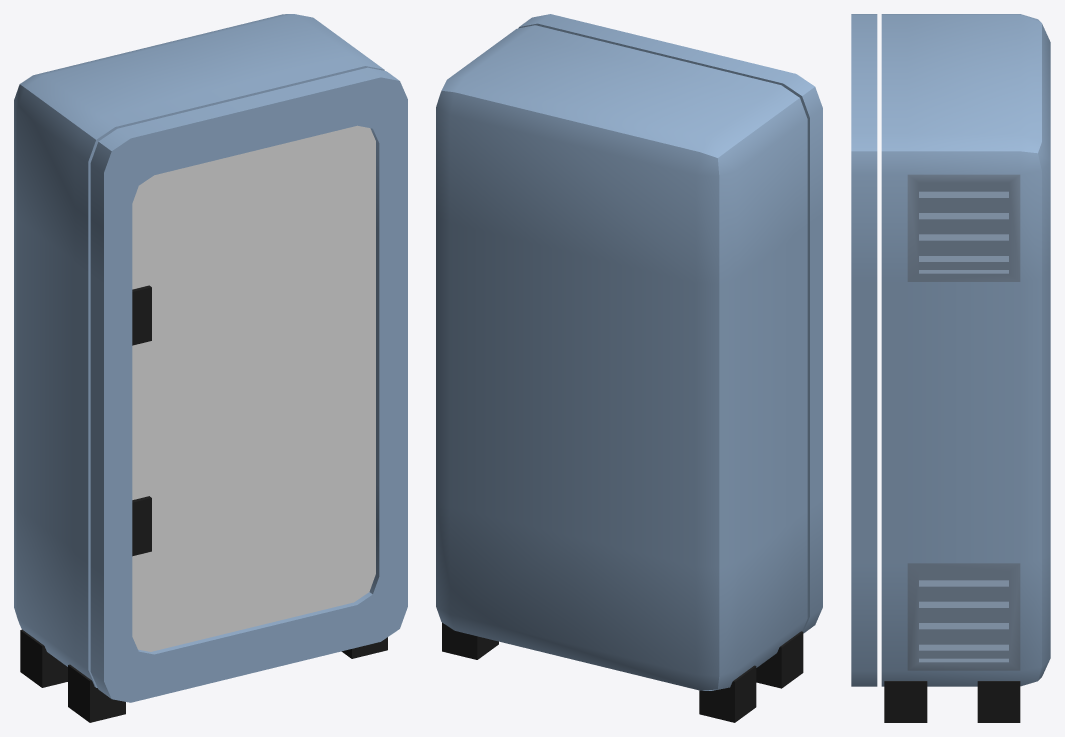
File: Environment_CanFridge.fbx
3 views of the same model, side by side, from view 1: azimuth 30°, elevation 25°; view 2: azimuth 150°, elevation 25°; view 3: azimuth 270°, elevation 25° (orthographic). The views are drawn at different scales.
Parts seen in each view (by area): view 1: Environment_CanFridge_Door, Environment_CanFridge; view 2: Environment_CanFridge, Environment_CanFridge_Door; view 3: Environment_CanFridge, Environment_CanFridge_Door.
Boxes of the visible parts, x1=… form: Environment_CanFridge_Door: x1=90, y1=67, x2=407, y2=702; Environment_CanFridge: x1=14, y1=14, x2=387, y2=722; Environment_CanFridge: x1=436, y1=25, x2=807, y2=722; Environment_CanFridge_Door: x1=518, y1=14, x2=822, y2=633; Environment_CanFridge: x1=881, y1=14, x2=1050, y2=722; Environment_CanFridge_Door: x1=851, y1=14, x2=877, y2=686.
Size of the model in its own units: 236 by 439 by 137.
